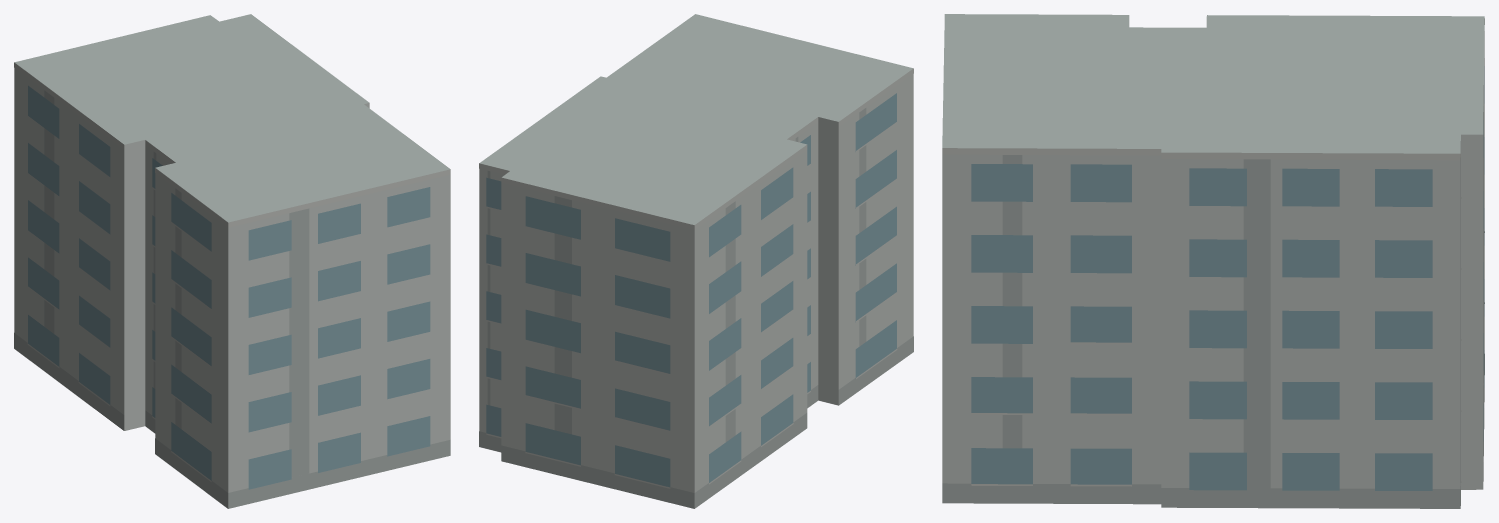
File: survey-upis-32638457.glb
3 views of the same model, side by side, from view 1: azimuth 30°, elevation 25°; view 2: azimuth 150°, elevation 25°; view 3: azimuth 270°, elevation 25° (orthographic). The views are drawn at different scales.
Visible parts, largest first — view 1: survey-upis-32638457.tmp; view 2: survey-upis-32638457.tmp; view 3: survey-upis-32638457.tmp.
Boxes of the visible parts, <box> form: survey-upis-32638457.tmp: <box>14,14,450,508</box>; survey-upis-32638457.tmp: <box>479,14,913,508</box>; survey-upis-32638457.tmp: <box>942,14,1484,508</box>.
Bounding box in the file's own units: 11.14 × 13.2 × 18.28.
